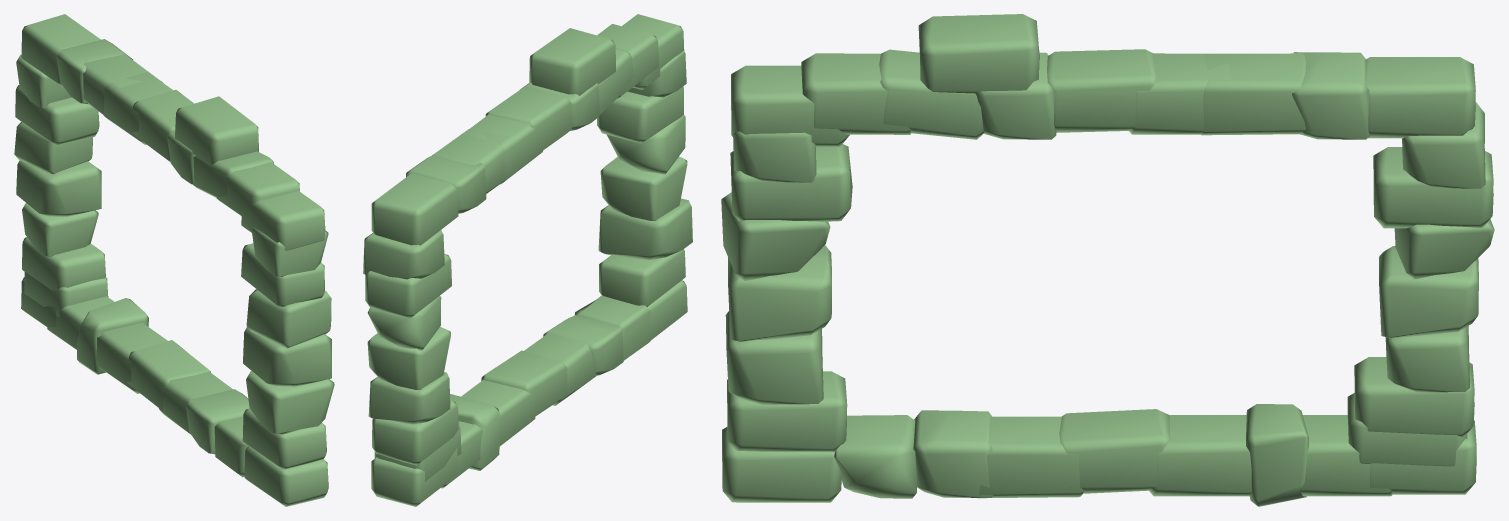
Rendered from Wall_Break_03_Lod0.fbx.
3 views of the same model, side by side, from view 1: azimuth 30°, elevation 25°; view 2: azimuth 150°, elevation 25°; view 3: azimuth 270°, elevation 25° (orthographic). The views are drawn at different scales.
Parts seen in each view (by area): view 1: Wall_Break_03_Lod0; view 2: Wall_Break_03_Lod0; view 3: Wall_Break_03_Lod0.
Boxes of the visible parts, box(x1,y1,x2,y2) form: Wall_Break_03_Lod0: box(14, 14, 334, 506); Wall_Break_03_Lod0: box(363, 14, 692, 506); Wall_Break_03_Lod0: box(721, 14, 1494, 506).
Size of the model in its own units: 46.16 by 224 by 336.
